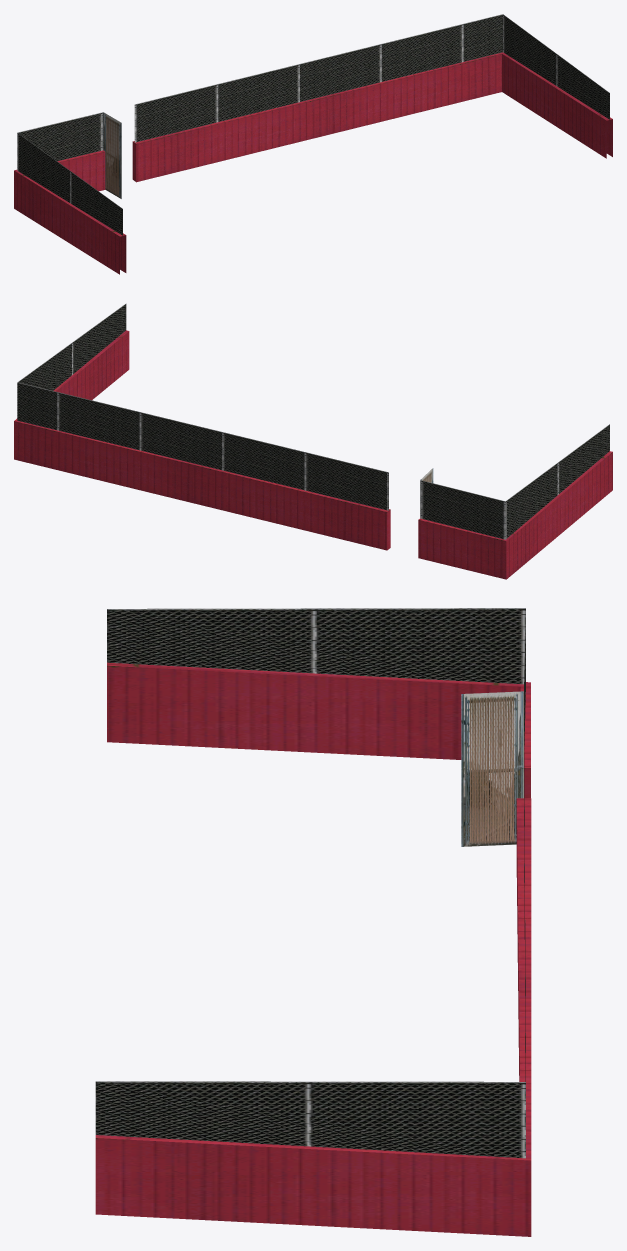
The model's file is des_dinerfenc01.obj.
3 views of the same model, one above another, from view 1: azimuth 30°, elevation 25°; view 2: azimuth 150°, elevation 25°; view 3: azimuth 270°, elevation 25° (orthographic). The views are drawn at different scales.
Parts seen in each view (by area): view 1: des_dinerfenc01; view 2: des_dinerfenc01; view 3: des_dinerfenc01.
Part boxes in pixels (x1,y1,x2,y2): des_dinerfenc01: (14,14,612,274); des_dinerfenc01: (14,303,612,579); des_dinerfenc01: (95,608,531,1236).
Bounding box in the file's own units: 15.73 × 2.34 × 6.05.
3 materials, 3 textured.
